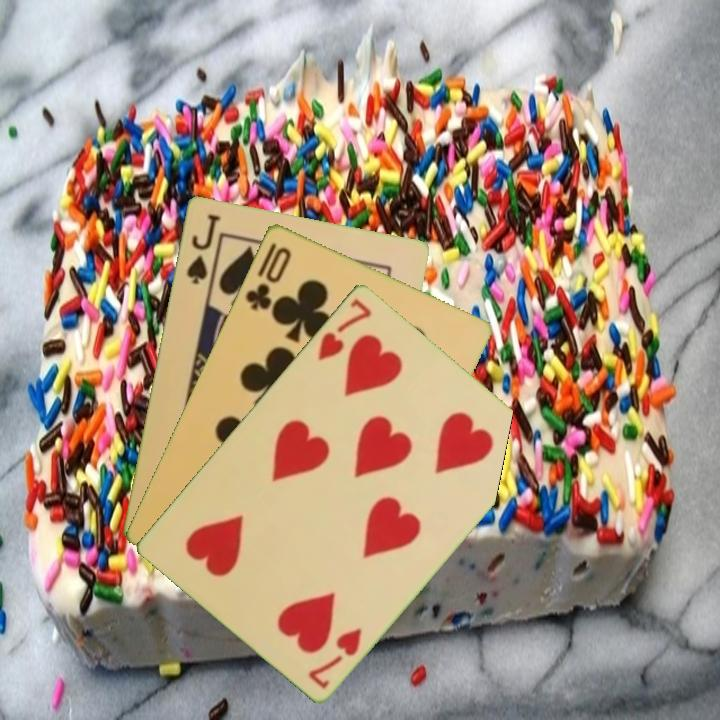10c: (241, 243, 294, 313)
7h: (314, 294, 375, 363), (304, 623, 365, 691)
Js: (182, 210, 223, 287)
